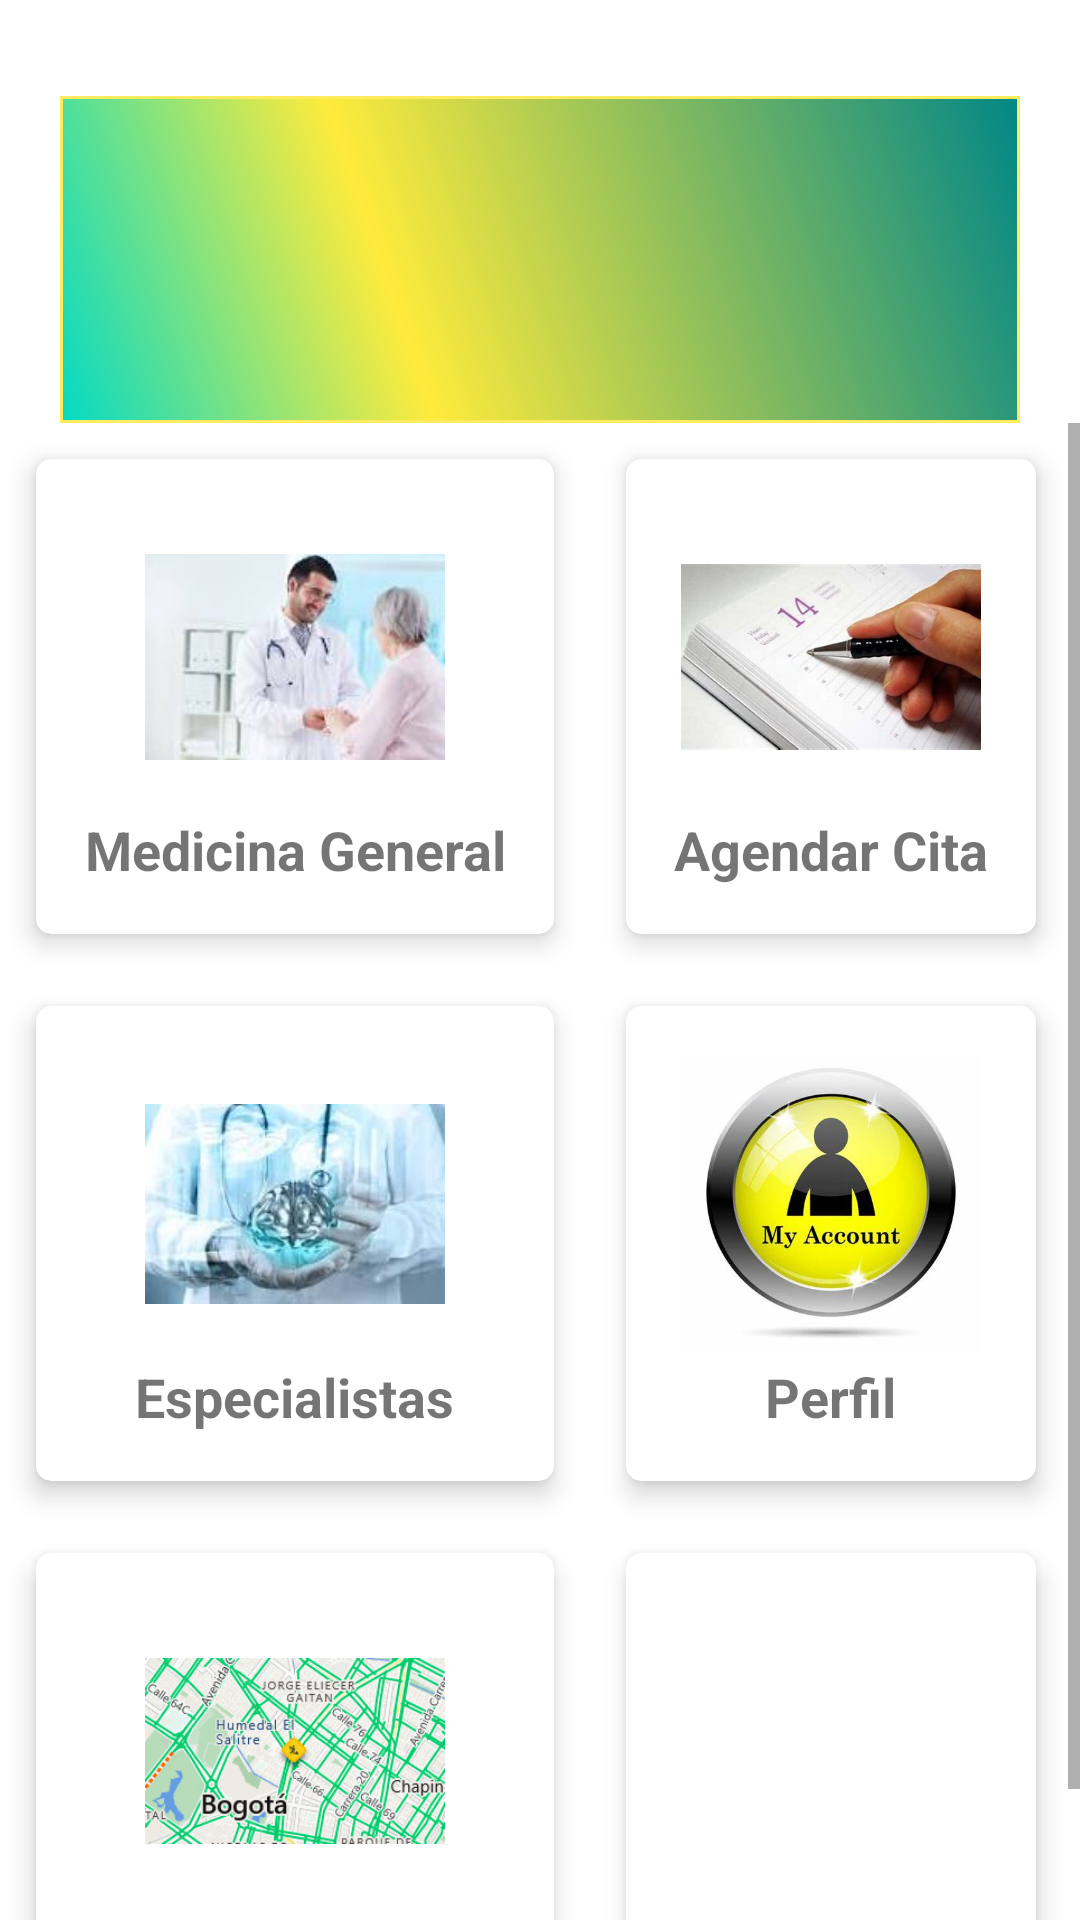

Icon bounding boxes for this 1080*1920 phone screenshot, format [x1,y1,x2,y2]:
doctor: [145,554,445,760]
neurologia: [145,1104,445,1304]
